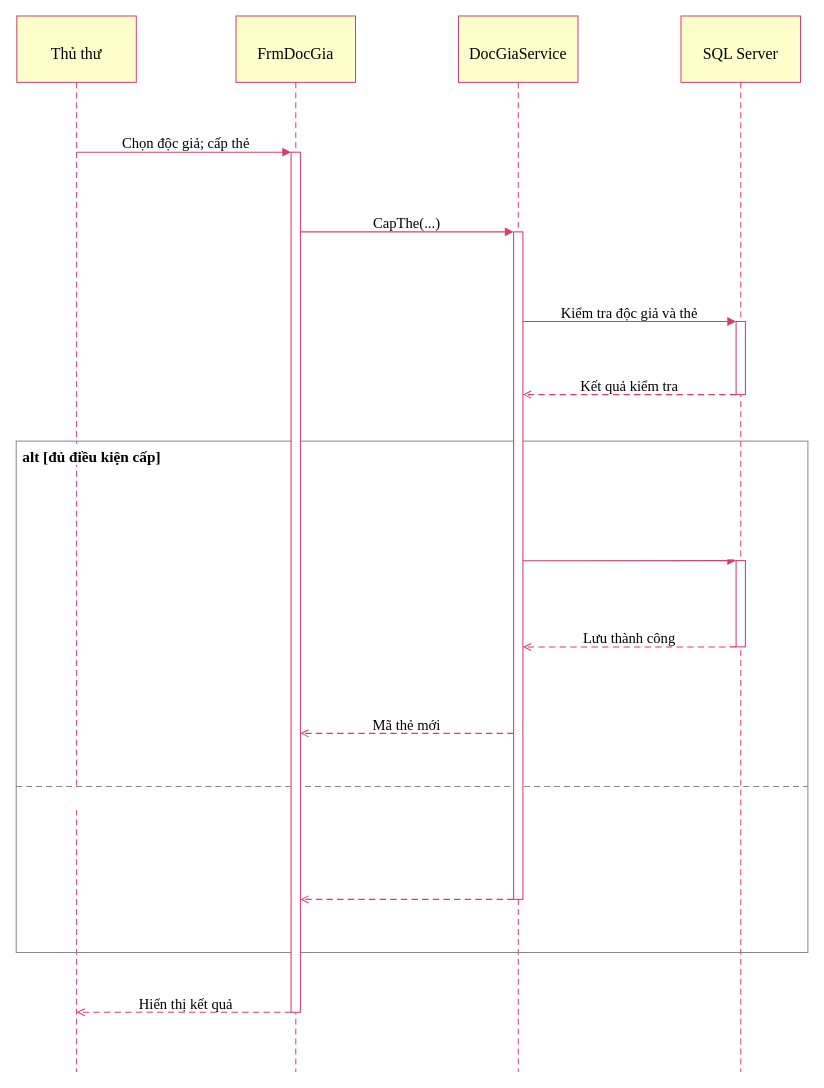
This 824x1088 diagram has some shape labels left out. The centre of each missing label's shape, as x and y in pixels:
"[không đủ điều kiện / lỗi]" belongs at point (102, 799).
"Tắt thẻ cũ; thêm thẻ mới trong giao dịch" belongs at point (629, 540).
"Từ chối; hủy giao dịch nếu có" belongs at point (406, 887).
